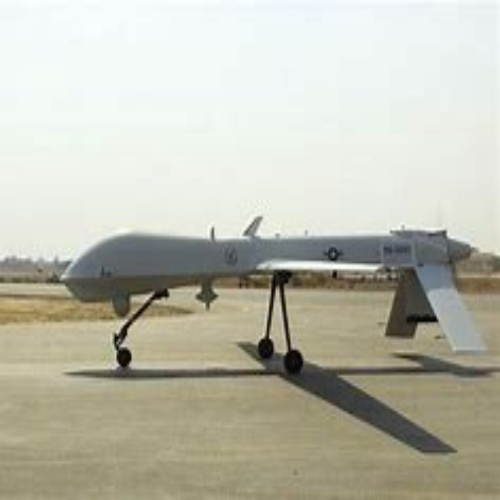uav185: (65, 218, 487, 381)
